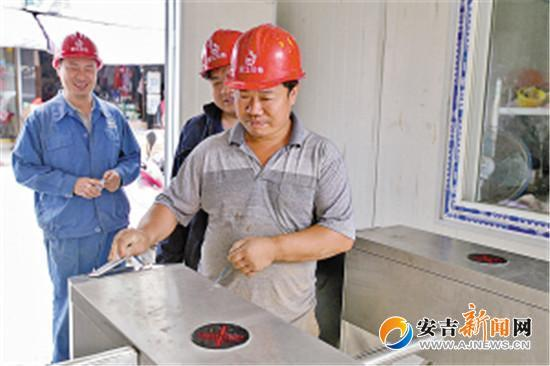helmet: (226, 23, 308, 92), (199, 28, 244, 82), (53, 32, 104, 72)
